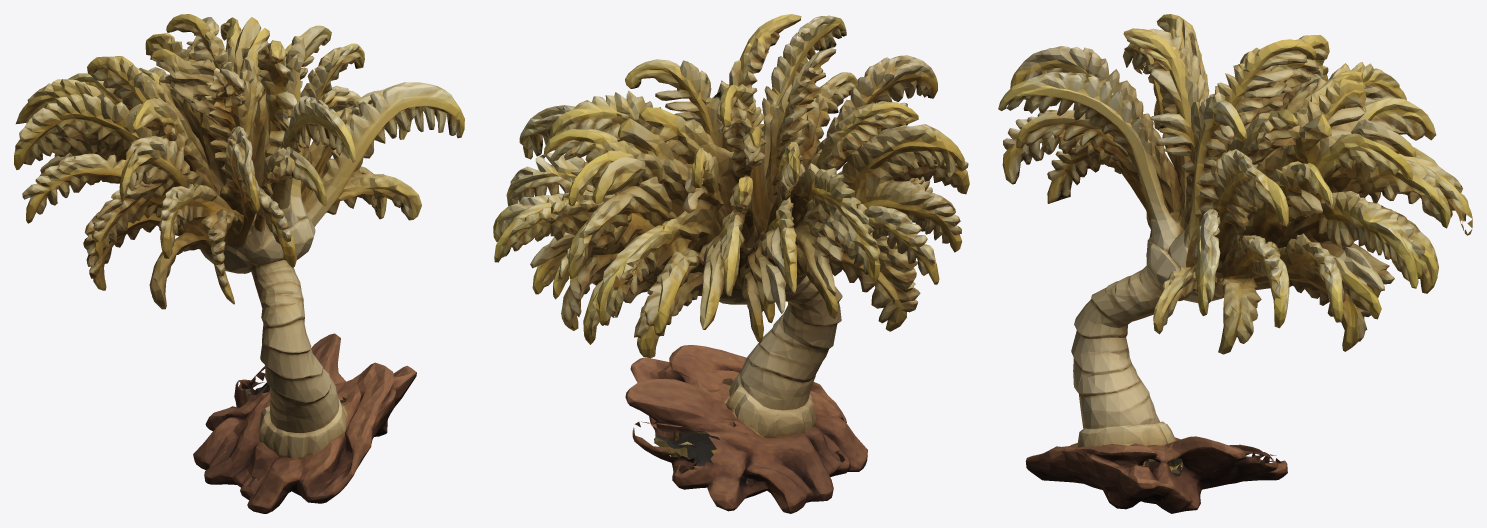
3 views of the same model, side by side, from view 1: azimuth 30°, elevation 25°; view 2: azimuth 150°, elevation 25°; view 3: azimuth 270°, elevation 25° (orthographic). The views are drawn at different scales.
Parts seen in each view (by area): view 1: world; view 2: world; view 3: world.
Part boxes in pixels (<box>): world: <box>14,14,464,513</box>; world: <box>493,14,969,513</box>; world: <box>998,14,1472,513</box>.
Size of the model in its own units: 1 by 1 by 0.9348.
Materials: 1 (1 with a texture image).
